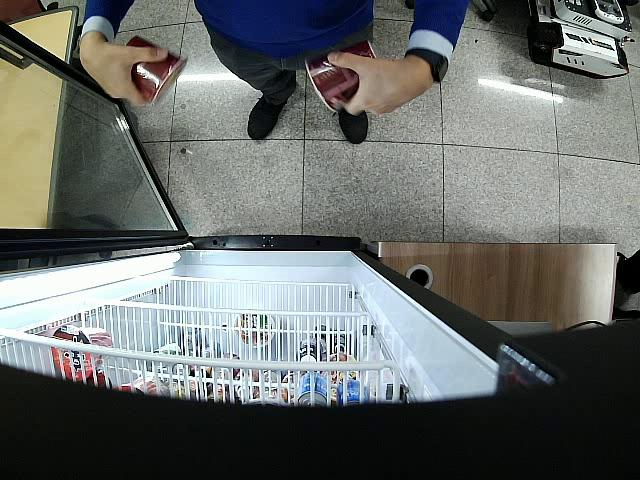00_hand: (327, 51, 430, 111), (80, 38, 168, 107)
06_nuguri_S: (305, 40, 377, 112), (127, 36, 187, 106)
